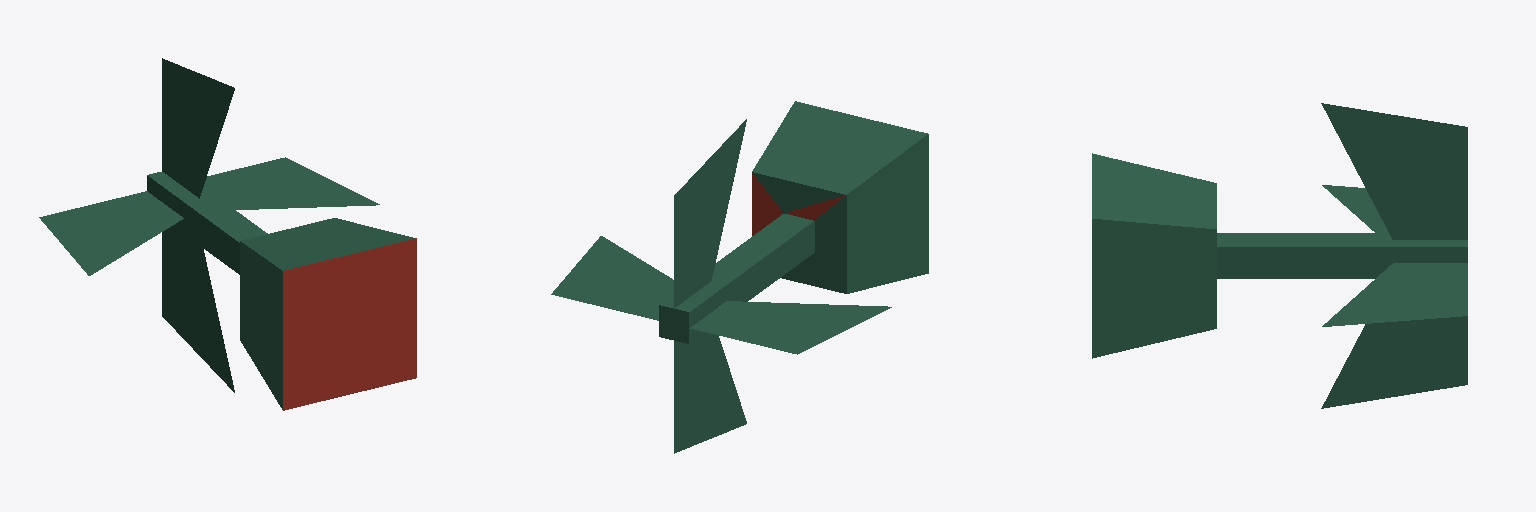
The model's file is flower2.obj.
3 views of the same model, side by side, from view 1: azimuth 30°, elevation 25°; view 2: azimuth 150°, elevation 25°; view 3: azimuth 270°, elevation 25° (orthographic).
Visible parts, largest first — view 1: Mesh1_Flower_Tall_Red_Model, Mesh5_Flower_Tall_Red_Model, Mesh4_Flower_Tall_Red_Model, Mesh2_Flower_Tall_Red_Model, Mesh3_Flower_Tall_Red_Model; view 2: Mesh1_Flower_Tall_Red_Model, Mesh5_Flower_Tall_Red_Model, Mesh4_Flower_Tall_Red_Model, Mesh2_Flower_Tall_Red_Model, Mesh3_Flower_Tall_Red_Model; view 3: Mesh1_Flower_Tall_Red_Model, Mesh5_Flower_Tall_Red_Model, Mesh2_Flower_Tall_Red_Model, Mesh3_Flower_Tall_Red_Model, Mesh4_Flower_Tall_Red_Model.
Part boxes in pixels (bbox=[...]): Mesh1_Flower_Tall_Red_Model: bbox=[147, 172, 416, 410]; Mesh5_Flower_Tall_Red_Model: bbox=[162, 58, 234, 198]; Mesh4_Flower_Tall_Red_Model: bbox=[39, 191, 183, 275]; Mesh2_Flower_Tall_Red_Model: bbox=[162, 226, 234, 392]; Mesh3_Flower_Tall_Red_Model: bbox=[204, 157, 379, 209]; Mesh1_Flower_Tall_Red_Model: bbox=[659, 101, 928, 343]; Mesh5_Flower_Tall_Red_Model: bbox=[674, 119, 746, 307]; Mesh4_Flower_Tall_Red_Model: bbox=[690, 301, 891, 354]; Mesh2_Flower_Tall_Red_Model: bbox=[674, 333, 746, 453]; Mesh3_Flower_Tall_Red_Model: bbox=[551, 236, 673, 320]; Mesh1_Flower_Tall_Red_Model: bbox=[1092, 153, 1467, 358]; Mesh5_Flower_Tall_Red_Model: bbox=[1321, 103, 1467, 239]; Mesh2_Flower_Tall_Red_Model: bbox=[1321, 316, 1467, 408]; Mesh3_Flower_Tall_Red_Model: bbox=[1322, 263, 1467, 326]; Mesh4_Flower_Tall_Red_Model: bbox=[1322, 185, 1388, 232].
Bounding box in the file's own units: 2.37 × 2.37 × 2.63.